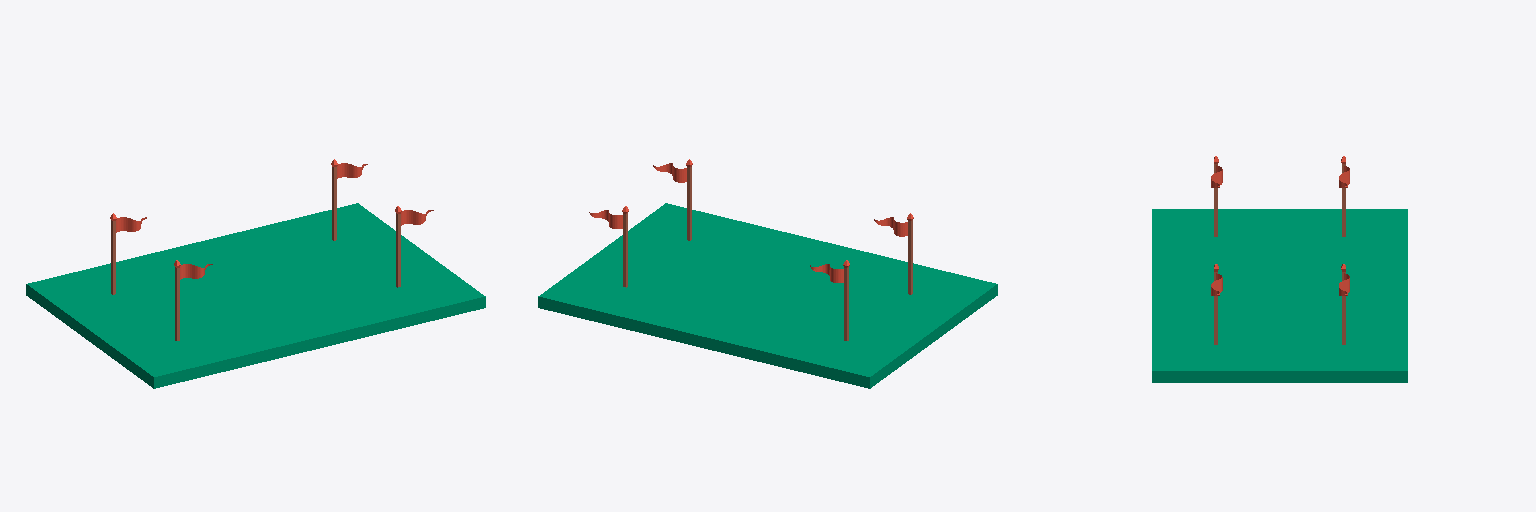
3 views of the same model, side by side, from view 1: azimuth 30°, elevation 25°; view 2: azimuth 150°, elevation 25°; view 3: azimuth 270°, elevation 25° (orthographic).
Visible parts, largest first — view 1: mergedBlocks; view 2: mergedBlocks; view 3: mergedBlocks.
Boxes of the visible parts, x1=… form: mergedBlocks: x1=26, y1=159, x2=485, y2=388; mergedBlocks: x1=538, y1=159, x2=997, y2=388; mergedBlocks: x1=1152, y1=156, x2=1407, y2=382.
Size of the model in its own units: 3 by 0.792 by 2.